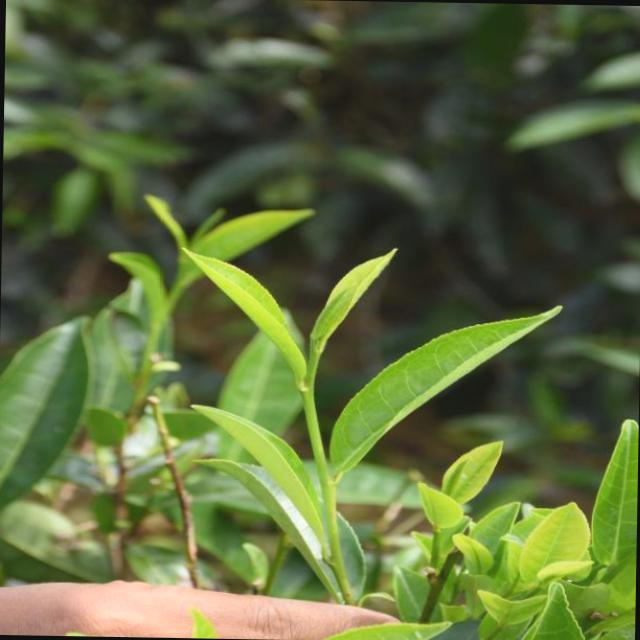Stem: (322, 479, 335, 500), (434, 530, 439, 539)
